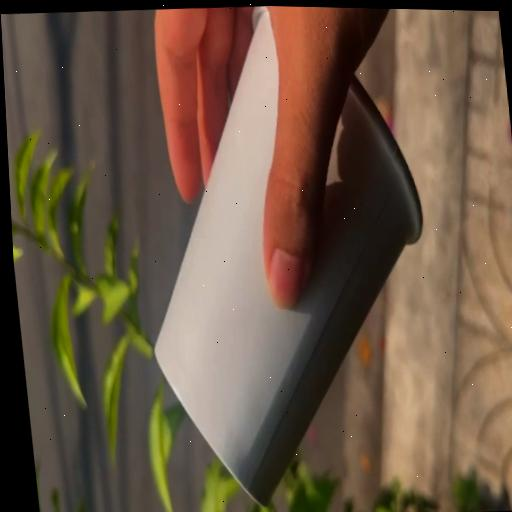Ly_giay: (156, 6, 422, 502)
